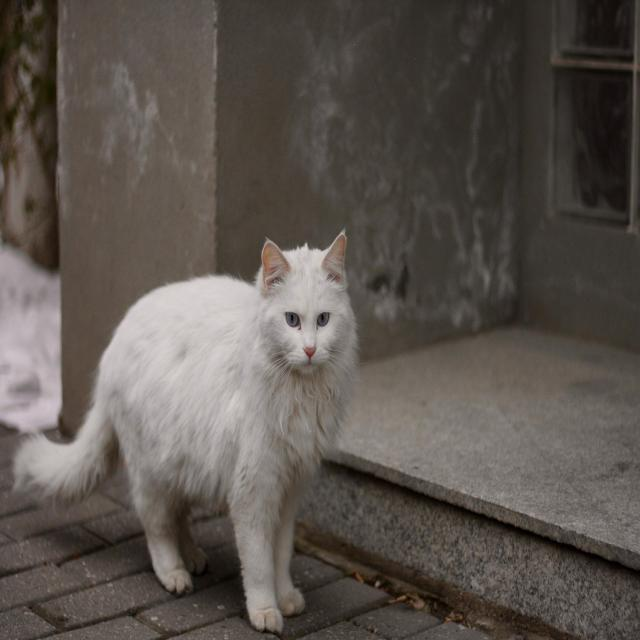cat: (17, 225, 358, 628)
